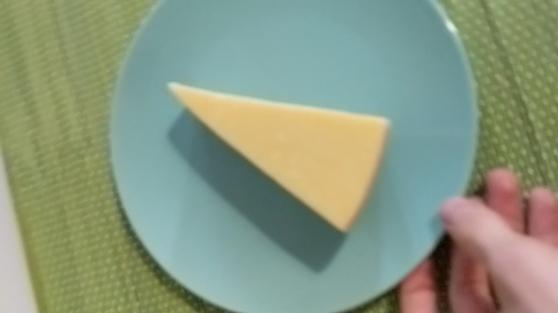cheese: (167, 77, 393, 235)
